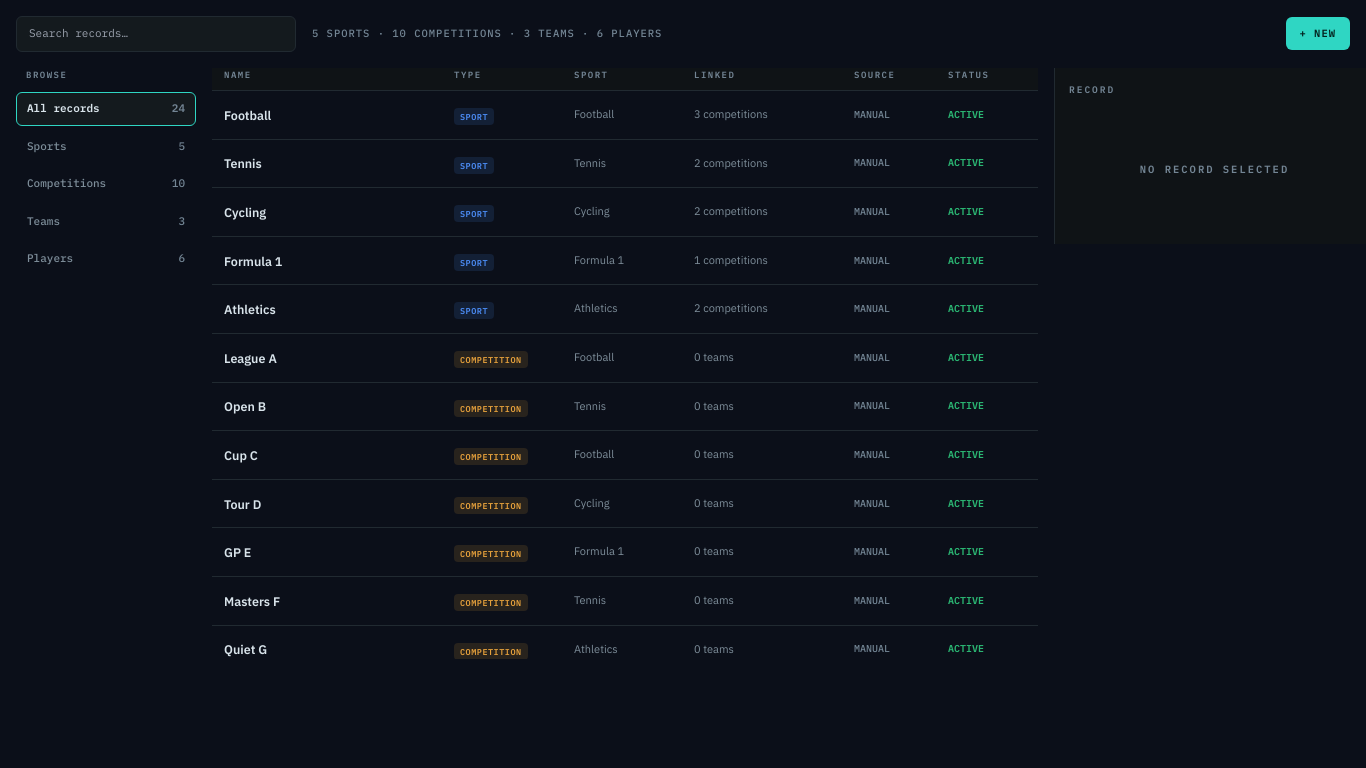
Test case: search (as-you-type, composes AND with the facet) › zero-match query → empty-state row; search + facet are KEPT (never auto-cleared)
Click the button "Teams 3" at coordinates (106, 222), box [16,205,196,238]
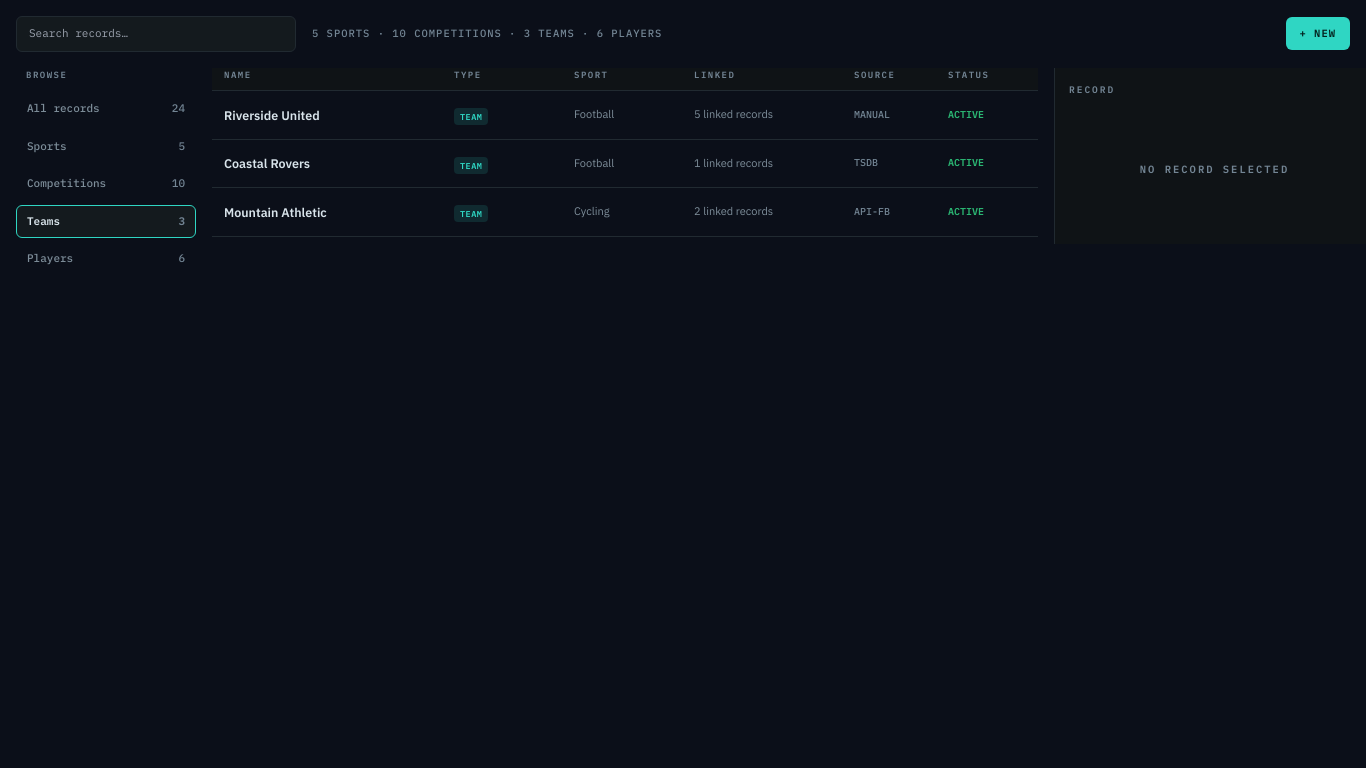
Type "zzzznope" into the field with test id "ops-registry-search" at coordinates (156, 34), box [16,16,296,52]
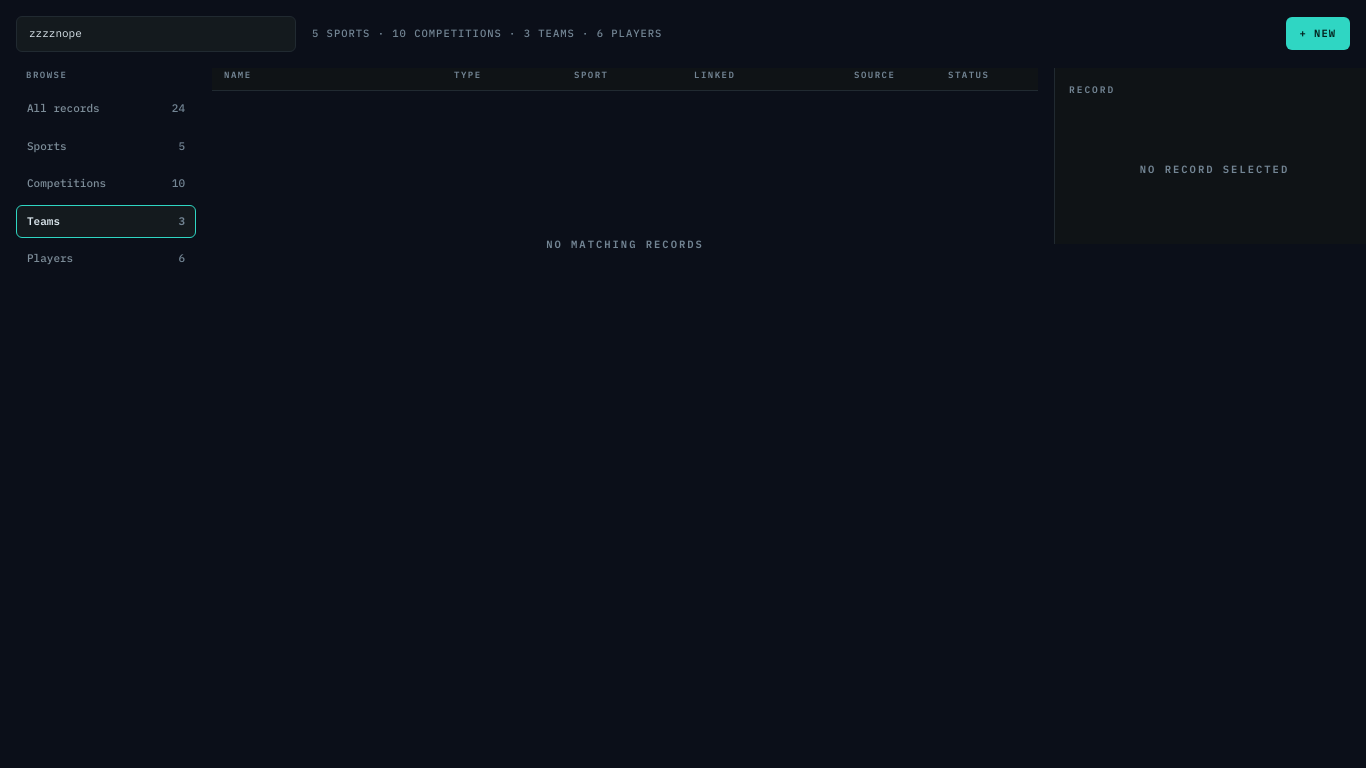
Expected: the text "NO MATCHING RECORDS" is shown, [546,237,704,251]
